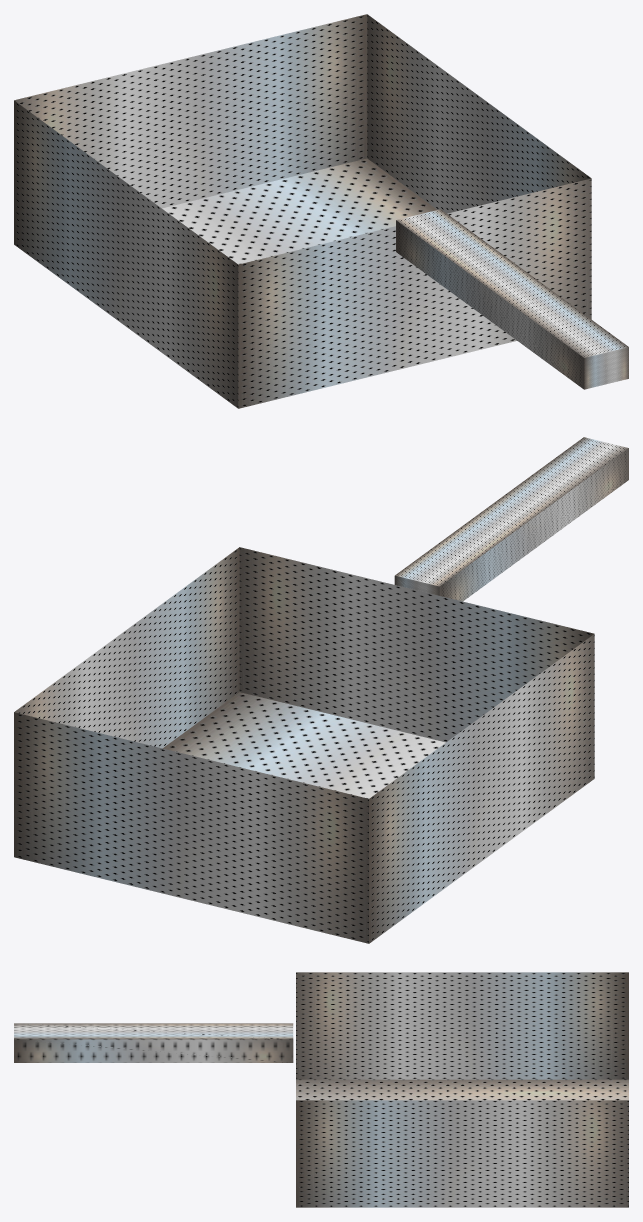
File: フライヤー（ポテト）.FBX
The picture shows the model from 3 angles, top to bottom: view 1: azimuth 30°, elevation 25°; view 2: azimuth 150°, elevation 25°; view 3: azimuth 270°, elevation 25°; orthographic projection. The views are drawn at different scales.
Parts seen in each view (by area): view 1: Box001, Box002; view 2: Box001, Box002; view 3: Box001, Box002.
Boxes of the visible parts, x1,y1,x2,y2 form: Box001: (14,14,591,408); Box002: (396,209,628,389); Box001: (14,547,594,943); Box002: (394,437,628,601); Box001: (296,972,628,1207); Box002: (14,1023,293,1062).
Bounding box in the file's own units: 32.62 × 66.27 × 13.41.
